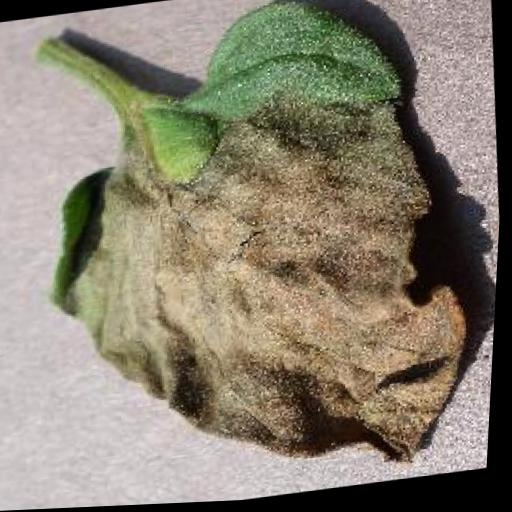Late Blight: (18, 0, 495, 511)
